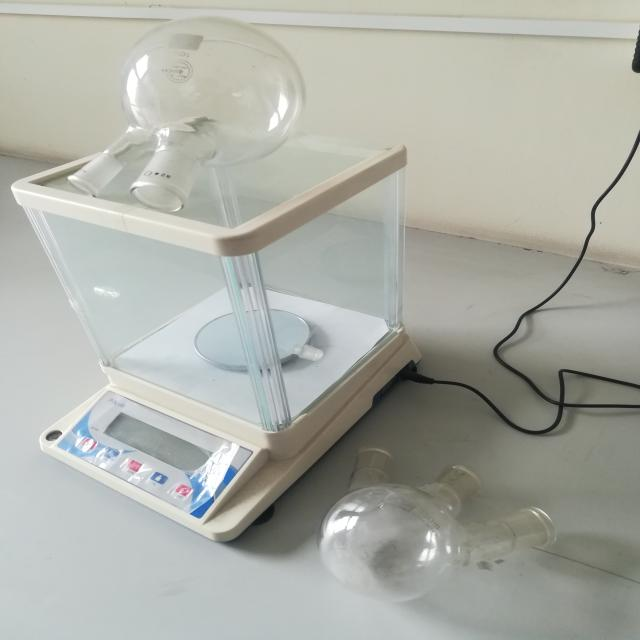Round_Bottom_Flask_Borosilicate_Glass_2_Neck: (19, 0, 333, 240)
Round_Bottom_Flask_Borosilicate_Glass_3_Neck: (289, 410, 569, 616)
